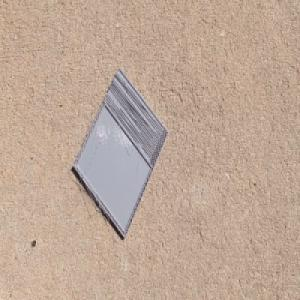PlasticPart: (71, 65, 170, 240)
